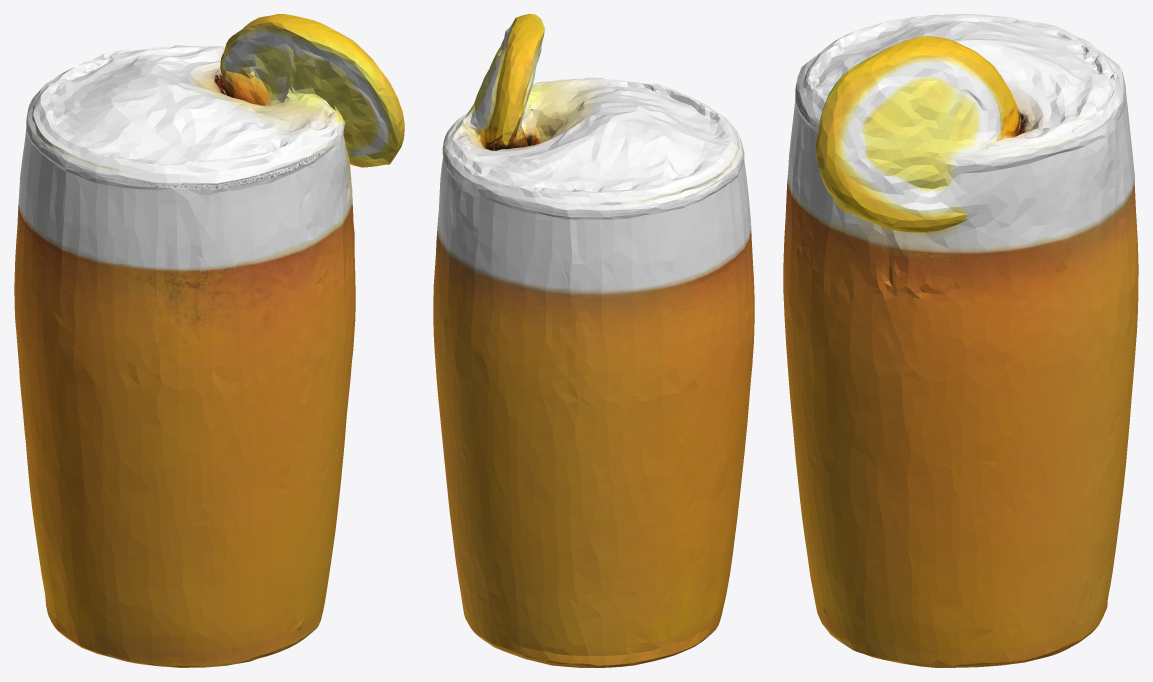
The picture shows the model from 3 angles, left to right: view 1: azimuth 30°, elevation 25°; view 2: azimuth 150°, elevation 25°; view 3: azimuth 270°, elevation 25°; orthographic projection. The views are drawn at different scales.
Parts seen in each view (by area): view 1: temp; view 2: temp; view 3: temp.
Boxes of the visible parts, x1,y1,x2,y2 form: temp: (14,14,404,667); temp: (433,14,754,667); temp: (783,14,1138,667).
Bounding box in the file's own units: 112 × 200 × 105.
1 material, 1 textured.
